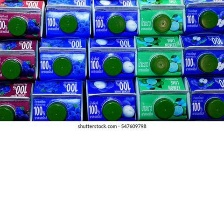carton: (134, 75, 187, 122), (31, 78, 85, 123), (84, 77, 137, 122), (36, 36, 86, 79), (86, 35, 135, 78), (135, 34, 183, 77), (186, 75, 224, 127), (178, 35, 224, 75), (91, 0, 138, 37), (0, 0, 45, 38), (45, 0, 92, 36), (0, 38, 39, 81), (137, 0, 185, 34), (0, 80, 35, 121), (182, 0, 224, 34)
